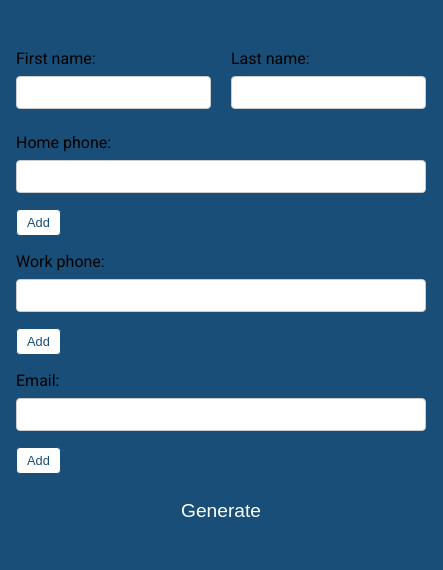
Test: VCardForm component › should render error message
This screenshot has width=443, height=570.
Click the button "Generate" at (221, 510), box [16,490,426,532]
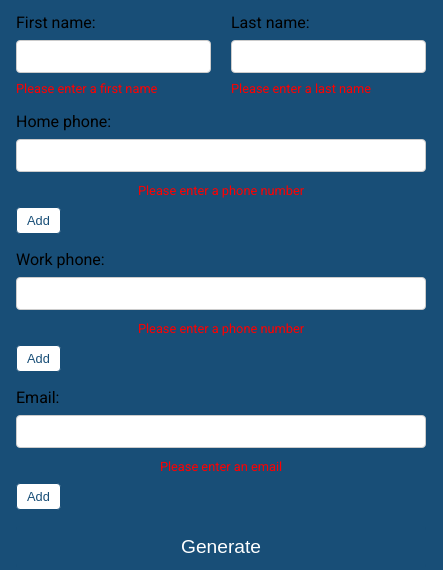
Now the text "Please enter a first name" is shown, box [16,80,157,96]
Now the text "Please enter a last name" is shown, box [231,80,371,96]
Now the text "Please enter an email" is shown, box [160,458,282,474]
